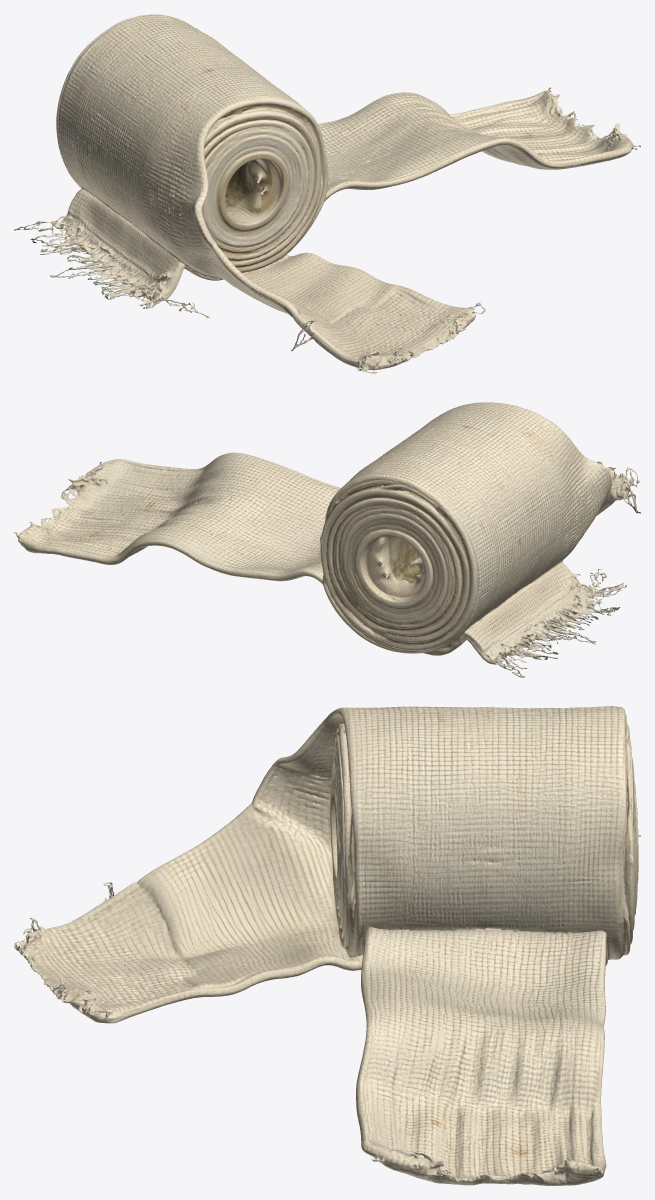
File: DiscardedGauzeBandages.glb
The picture shows the model from 3 angles, top to bottom: view 1: azimuth 30°, elevation 25°; view 2: azimuth 150°, elevation 25°; view 3: azimuth 270°, elevation 25°; orthographic projection. The views are drawn at different scales.
Size of the model in its own units: 1.78 by 0.5679 by 1.38.
Materials: 1 (1 with a texture image).
